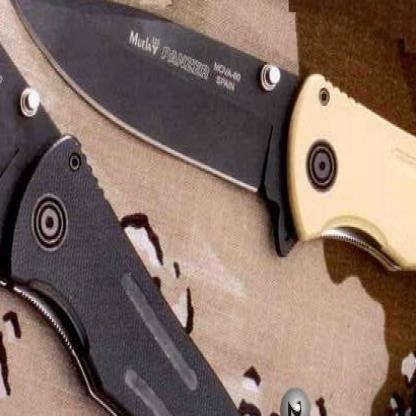knife: (0, 0, 325, 265)
